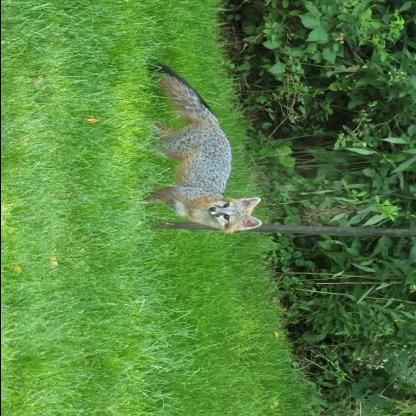zorro: (132, 60, 268, 236)
